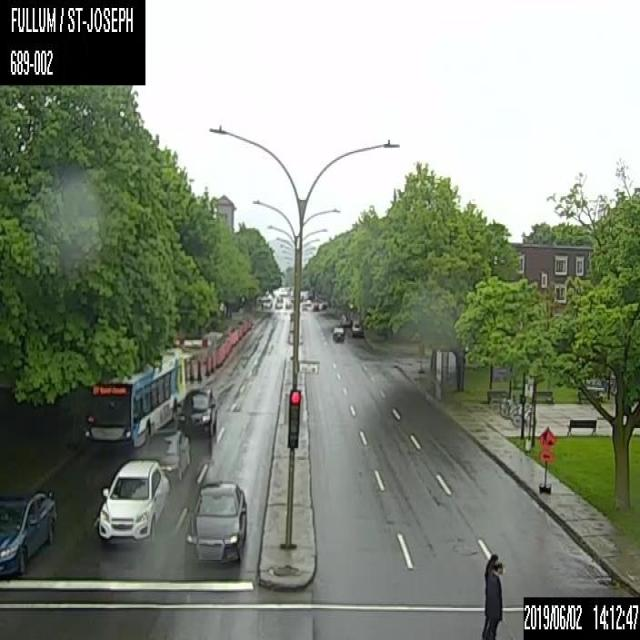bus: (82, 347, 184, 448)
construction: (536, 425, 556, 492), (195, 358, 202, 381), (188, 356, 194, 381), (203, 356, 210, 375), (214, 350, 219, 368), (210, 351, 214, 372)
pedestrian: (486, 554, 506, 638), (480, 552, 498, 638)
vehicle: (97, 460, 169, 543), (184, 477, 246, 568), (0, 489, 56, 575), (142, 426, 190, 482), (176, 386, 216, 437), (350, 318, 364, 338), (331, 324, 344, 344), (263, 294, 272, 308), (274, 295, 282, 308), (284, 300, 292, 308)
